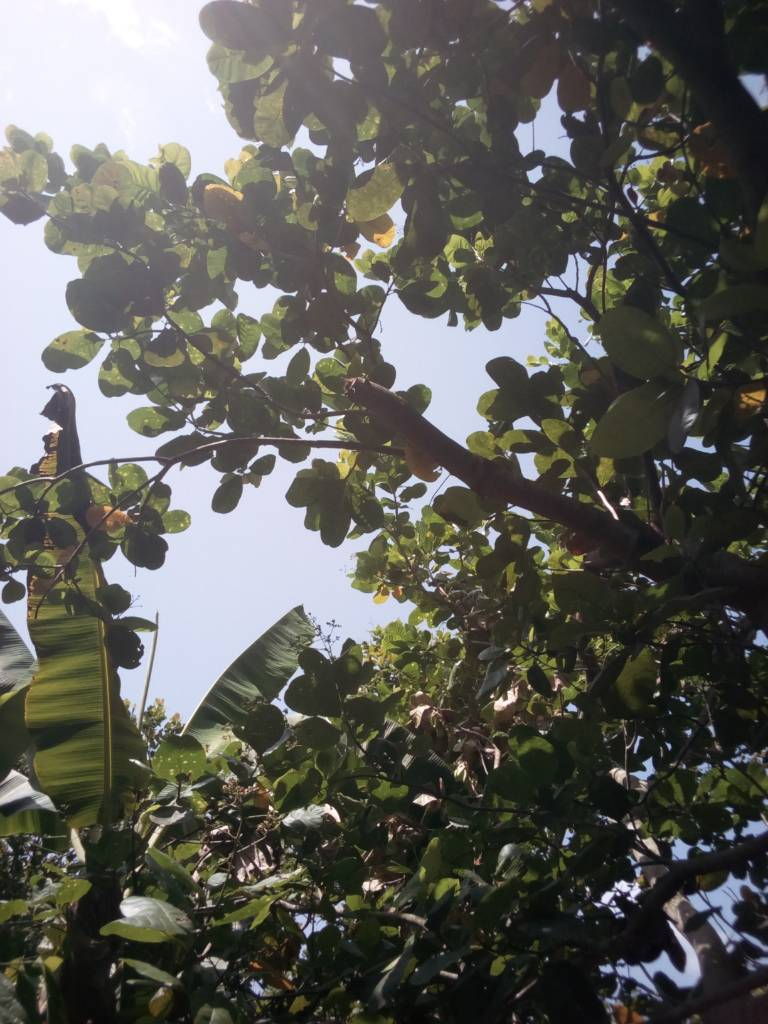Analepse trifasciata: (338, 366, 400, 428)
